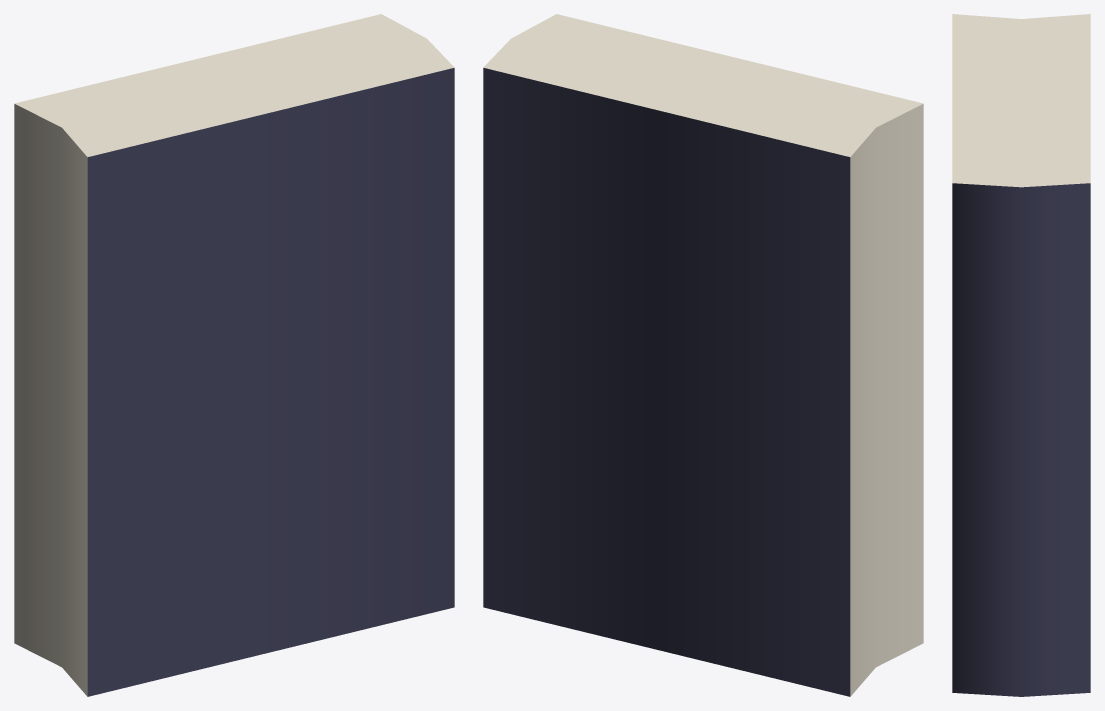
File: book_blue.fbx
The picture shows the model from 3 angles, left to right: view 1: azimuth 30°, elevation 25°; view 2: azimuth 150°, elevation 25°; view 3: azimuth 270°, elevation 25°; orthographic projection. The views are drawn at different scales.
Parts seen in each view (by area): view 1: Book; view 2: Book; view 3: Book.
Boxes of the visible parts, x1,y1,x2,y2 form: Book: (14,14,454,696); Book: (483,14,923,696); Book: (952,14,1090,696).
Size of the model in its own units: 7.4 by 21.9 by 30.03.
